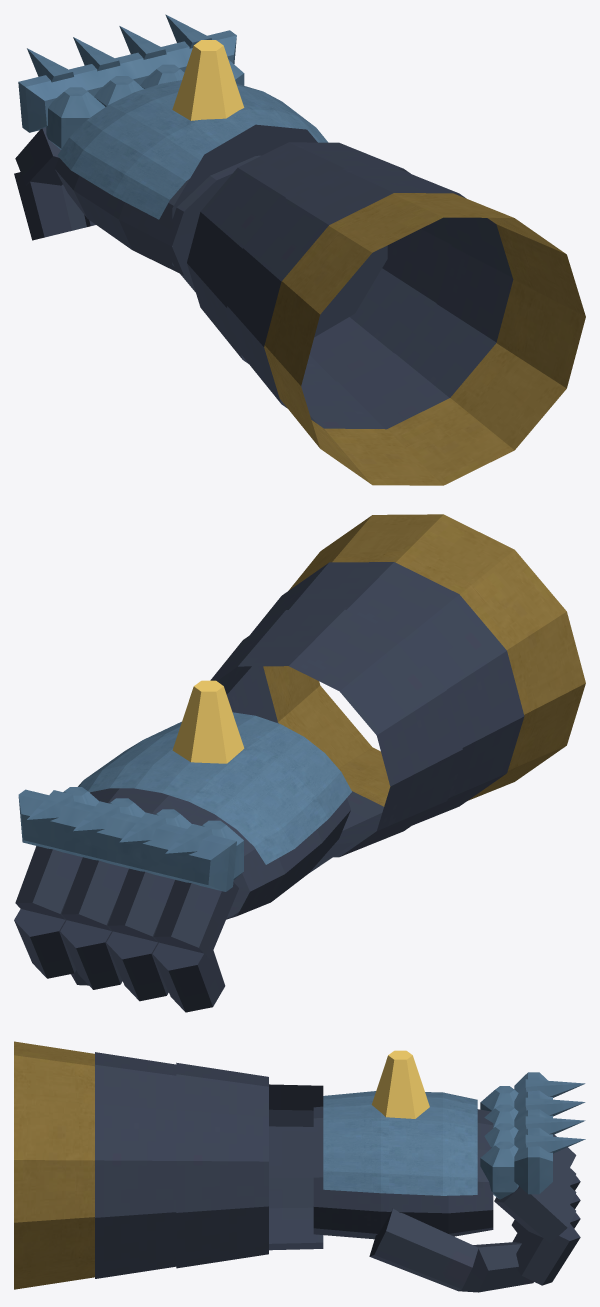
The model's file is wpn_gauntlet_rare.glb.
The picture shows the model from 3 angles, top to bottom: view 1: azimuth 30°, elevation 25°; view 2: azimuth 150°, elevation 25°; view 3: azimuth 270°, elevation 25°; orthographic projection. The views are drawn at different scales.
Parts seen in each view (by area): view 1: wpn_gauntlet_rare; view 2: wpn_gauntlet_rare; view 3: wpn_gauntlet_rare.
Part boxes in pixels (x1,y1,x2,y2): wpn_gauntlet_rare: [14, 14, 585, 485]; wpn_gauntlet_rare: [14, 514, 585, 1012]; wpn_gauntlet_rare: [14, 1041, 585, 1292].
Bounding box in the file's own units: 0.14 × 0.126 × 0.296.
4 materials, 4 textured.
